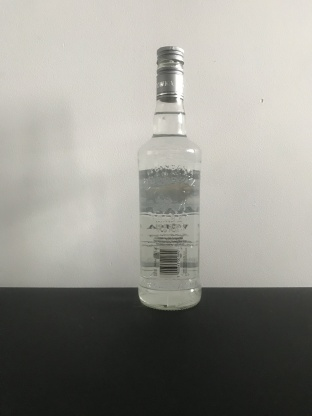nakretka: (154, 43, 185, 104)
